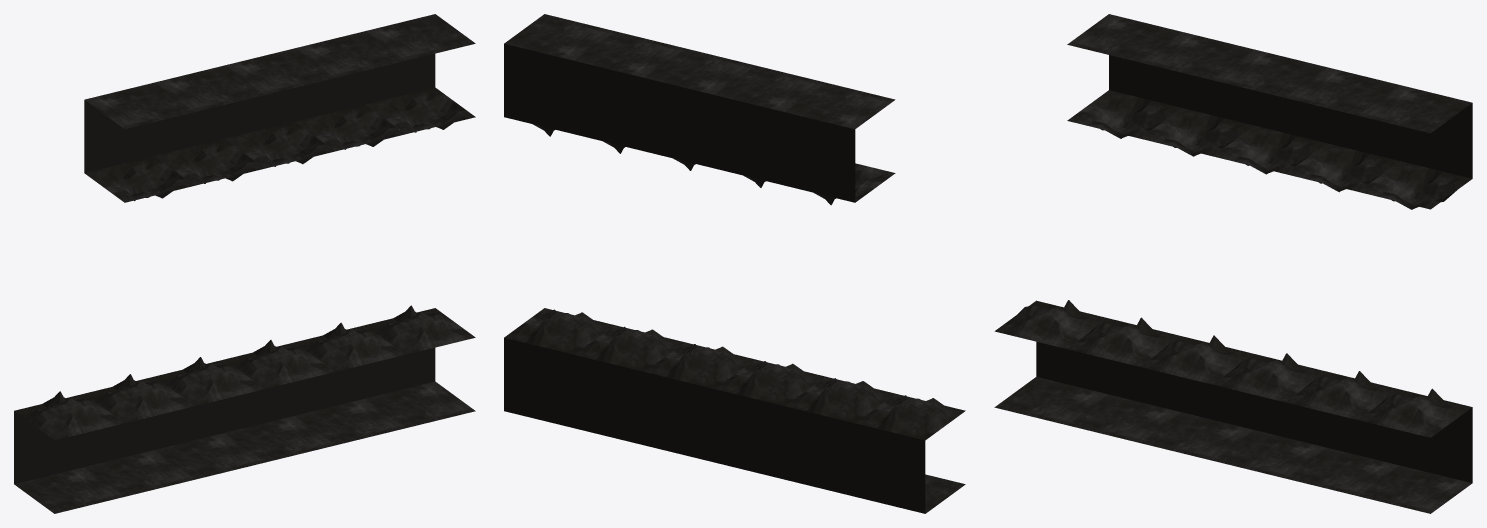
Rendered from Cubi_Corridor3to4.fbx.
The picture shows the model from 3 angles, left to right: view 1: azimuth 30°, elevation 25°; view 2: azimuth 150°, elevation 25°; view 3: azimuth 330°, elevation 25°; orthographic projection. The views are drawn at different scales.
Visible parts, largest first — view 1: Cubes_Corridor3to4; view 2: Cubes_Corridor3to4; view 3: Cubes_Corridor3to4.
Boxes of the visible parts, x1=… form: Cubes_Corridor3to4: x1=14, y1=14, x2=475, y2=513; Cubes_Corridor3to4: x1=504, y1=14, x2=965, y2=513; Cubes_Corridor3to4: x1=994, y1=14, x2=1472, y2=513.
Bounding box in the file's own units: 600 × 500 × 100.
